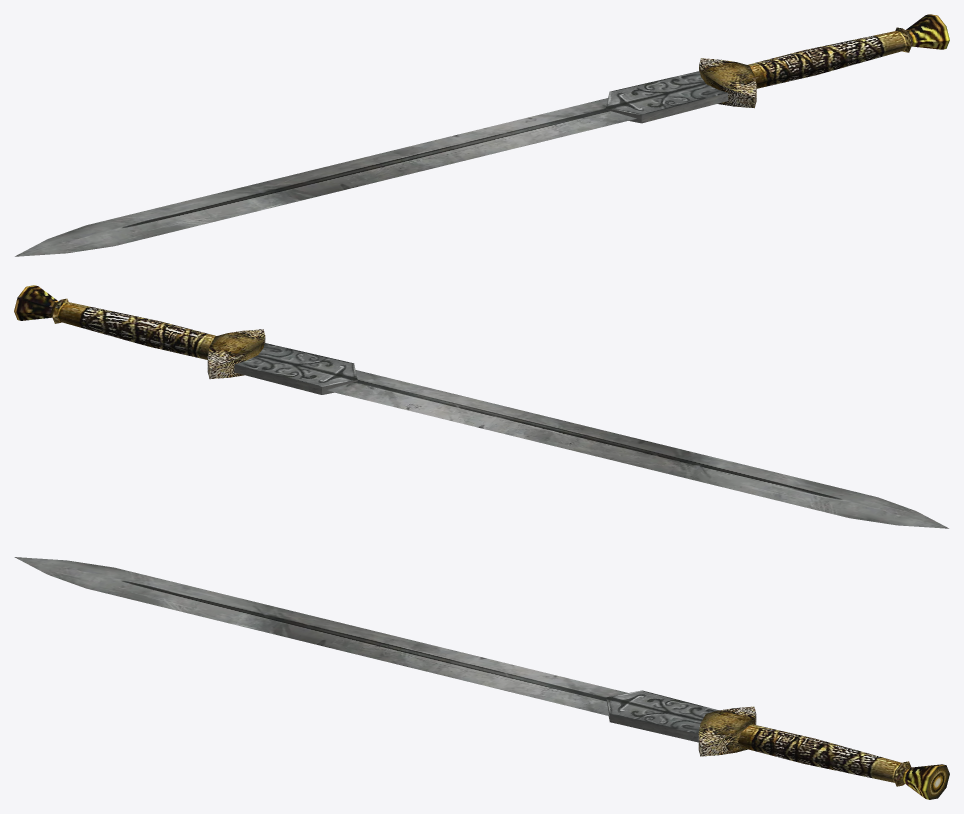
The model's file is KM_ITMW_2H_SWORD_01.glb.
3 renders of one model, top to bottom at view 1: azimuth 30°, elevation 25°; view 2: azimuth 150°, elevation 25°; view 3: azimuth 330°, elevation 25°, orthographic.
Parts seen in each view (by area): view 1: KM_ITMW_2H_SWORD_01; view 2: KM_ITMW_2H_SWORD_01; view 3: KM_ITMW_2H_SWORD_01.
Part boxes in pixels (x1=…): KM_ITMW_2H_SWORD_01: x1=15, y1=14, x2=949, y2=256; KM_ITMW_2H_SWORD_01: x1=14, y1=285, x2=948, y2=528; KM_ITMW_2H_SWORD_01: x1=14, y1=557, x2=949, y2=799.
Size of the model in its own units: 1.37 by 0.045 by 0.1385.
Materials: 2 (2 with a texture image).
